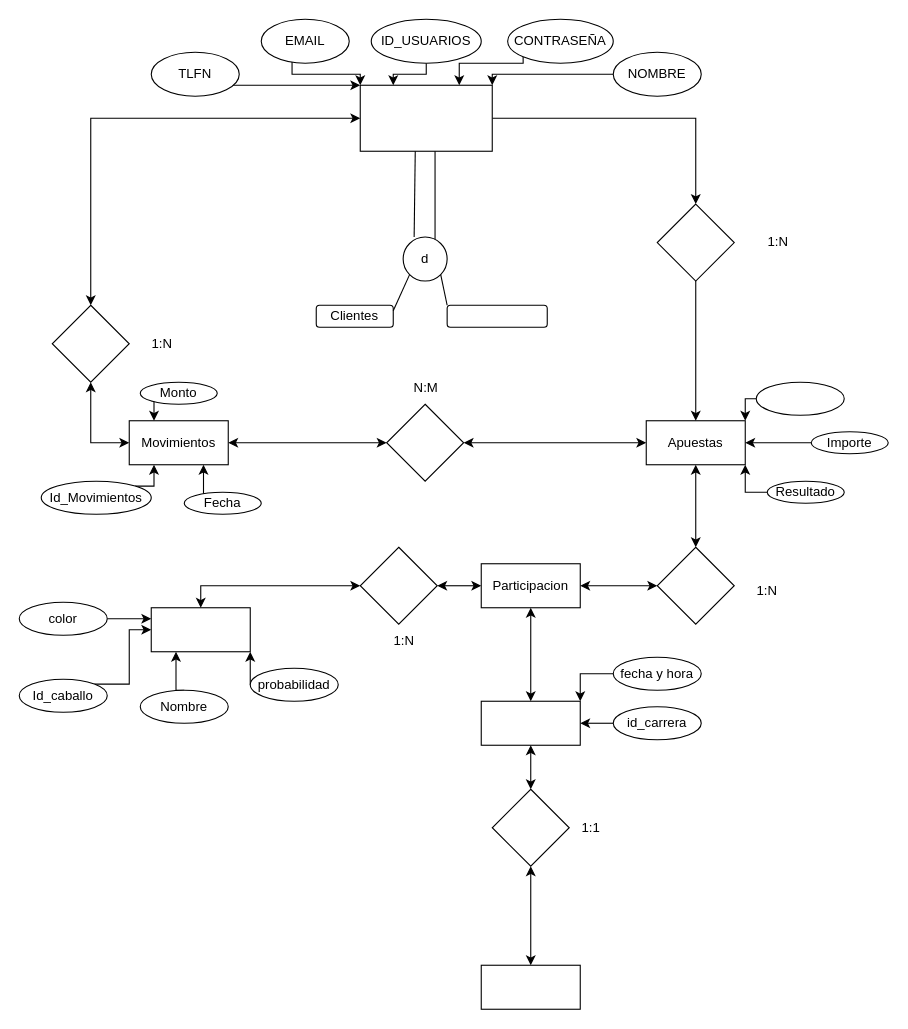
Image size: 908x1029. Some labels were removed from this diagram. The shapes that lost their labels are listed below. From the top down, each one's centre as x and y in pixels, then its label:
the point at 425,117: USUARIOS
the point at 695,242: Realiza
the point at 496,315: Administrador
the point at 90,343: Resgistra
the point at 799,398: Id_apuesta
the point at 425,442: Genera
the point at 695,585: sobre
the point at 200,629: Caballos
the point at 530,722: Carreras
the point at 530,986: Resultados
